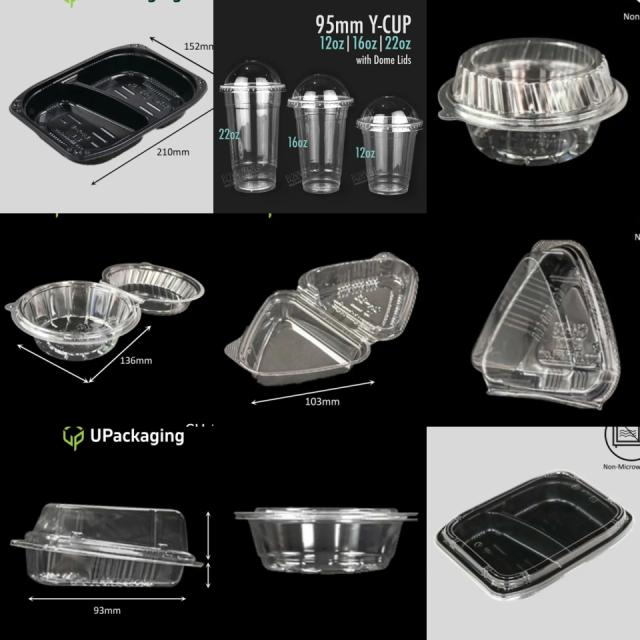Single-Use-Plastic: (225, 252, 418, 386), (471, 240, 620, 408), (436, 471, 631, 599), (439, 38, 626, 166), (10, 45, 208, 164), (5, 262, 204, 361), (11, 504, 202, 587), (235, 508, 416, 574), (220, 60, 285, 192), (288, 74, 354, 194), (356, 96, 422, 195)
